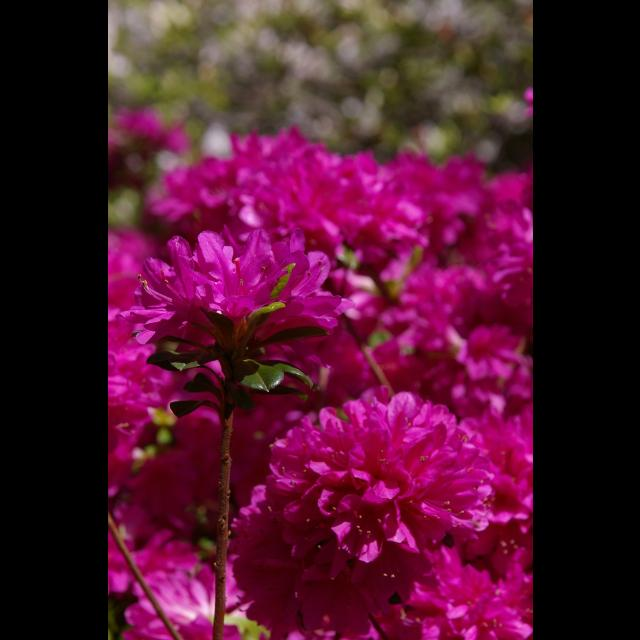Flower: (108, 107, 532, 639), (233, 383, 503, 634)
